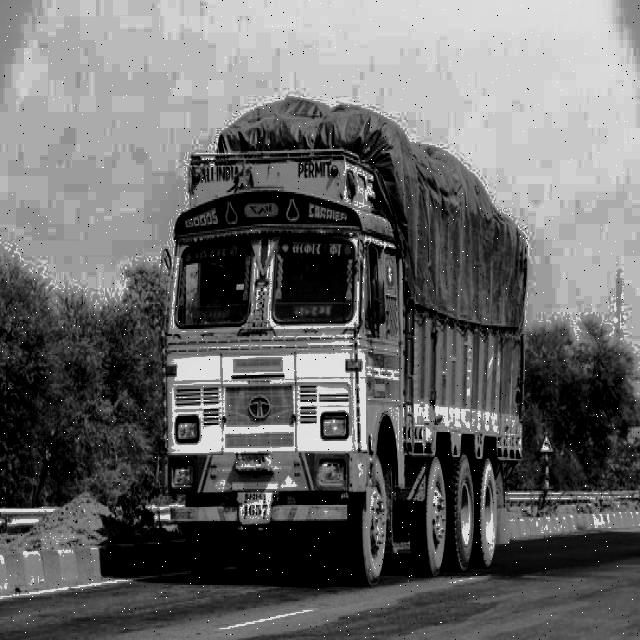HCV: (144, 100, 564, 606)
